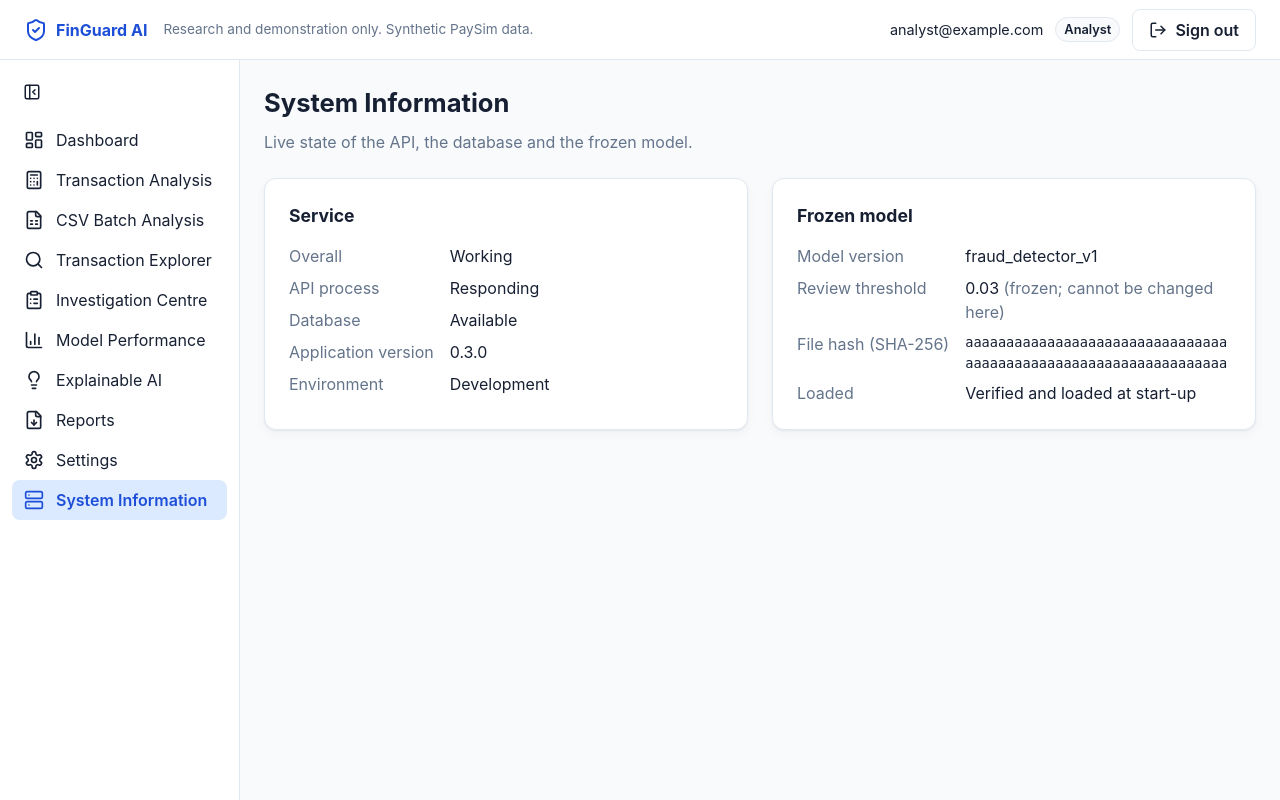
Test case: authentication › signs out through the API and returns to login
This screenshot has width=1280, height=800.
Click the button "Sign out" at (1194,30), box [1132,8,1256,50]
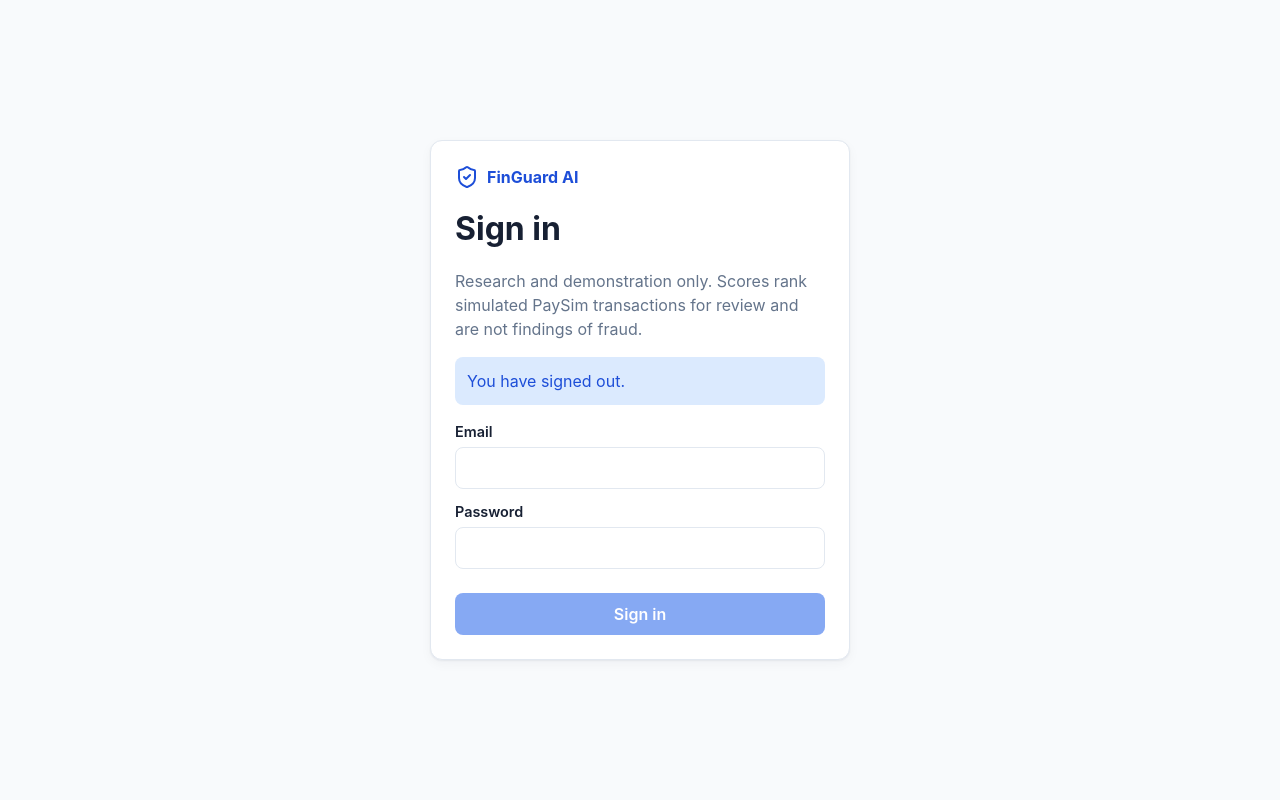
Check: the heading "Sign in" is shown, box [455,209,561,248]
Check: the message reads "You have signed out.", box [467,371,625,391]
